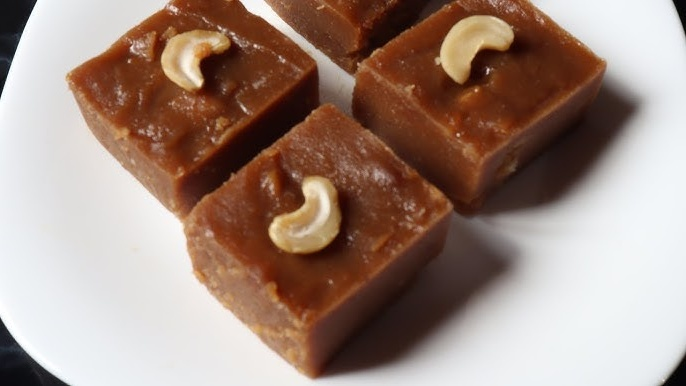dodol: (185, 98, 457, 379), (66, 2, 320, 229), (349, 0, 608, 211)
